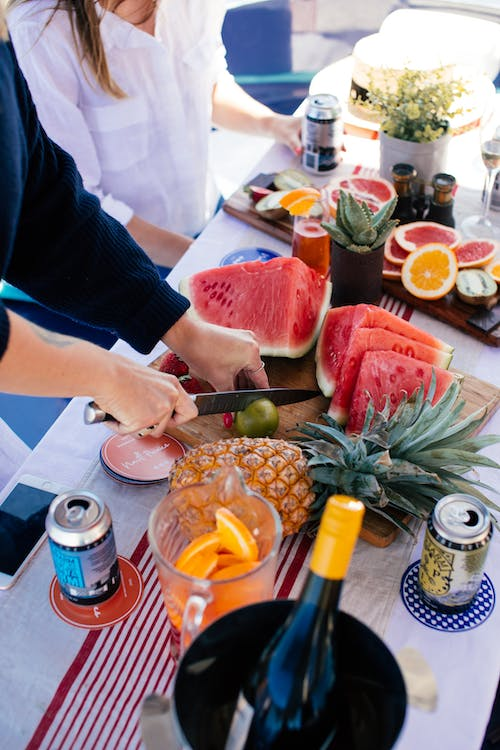alcohol: (210, 491, 368, 750), (419, 491, 494, 613), (48, 489, 119, 610), (458, 96, 500, 245), (298, 93, 346, 175)
knife: (79, 386, 324, 426)
